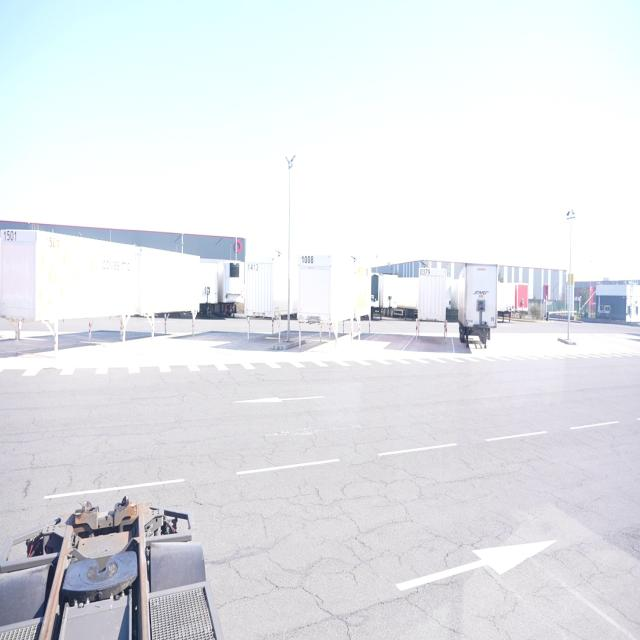Code: (0, 229, 22, 250), (243, 256, 263, 274), (298, 250, 316, 268), (418, 268, 432, 280)
